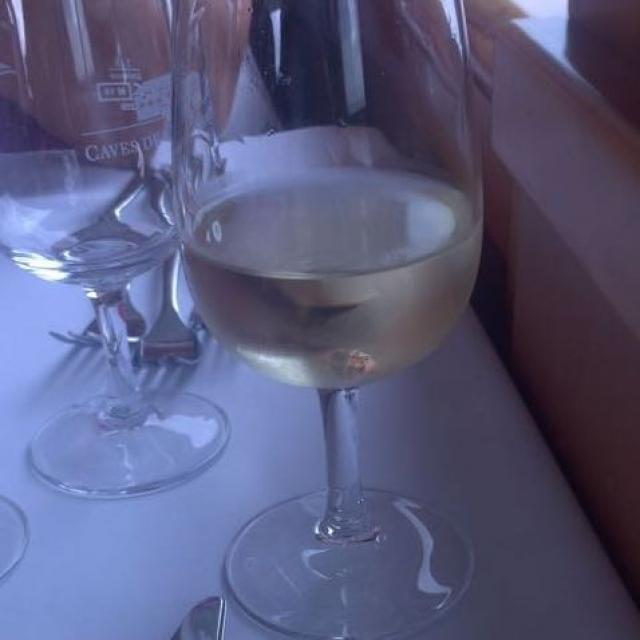wine: (186, 173, 489, 408)
